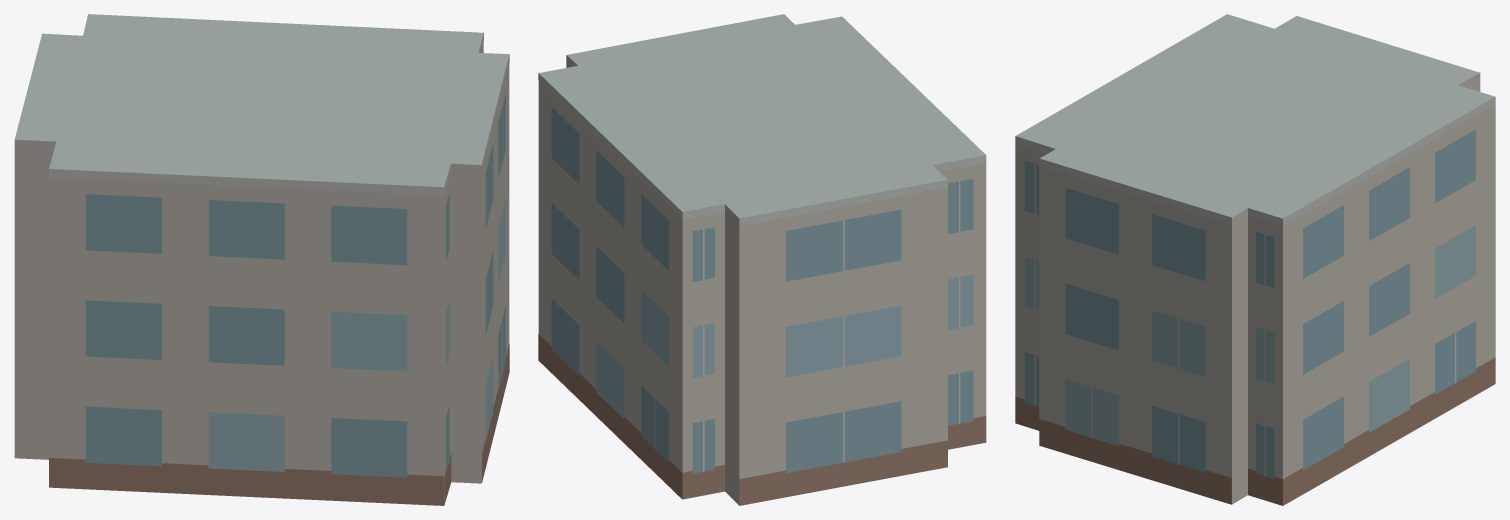
Rendered from survey-upis-32718507.glb.
3 renders of one model, left to right at view 1: azimuth 30°, elevation 25°; view 2: azimuth 150°, elevation 25°; view 3: azimuth 270°, elevation 25°, orthographic. The views are drawn at different scales.
Parts seen in each view (by area): view 1: survey-upis-32718507.tmp; view 2: survey-upis-32718507.tmp; view 3: survey-upis-32718507.tmp.
Part boxes in pixels (x1,y1,x2,y2): survey-upis-32718507.tmp: (14,14,509,505); survey-upis-32718507.tmp: (538,14,986,505); survey-upis-32718507.tmp: (1015,14,1495,505).
Bounding box in the file's own units: 14 × 9.15 × 13.88.
